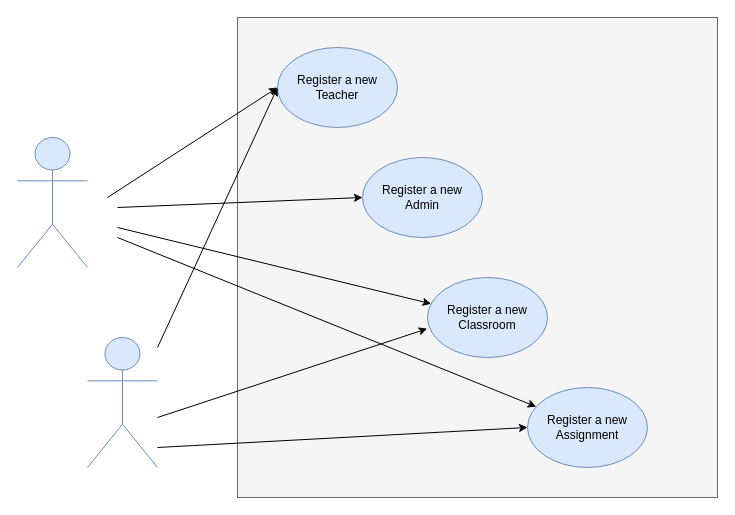
This 735x515 diagram has some shape labels left out. Here are the shapes that lost their labels. From the top down, the centre of each, then its label:
point 52,202: Admin
point 122,402: Teacher
